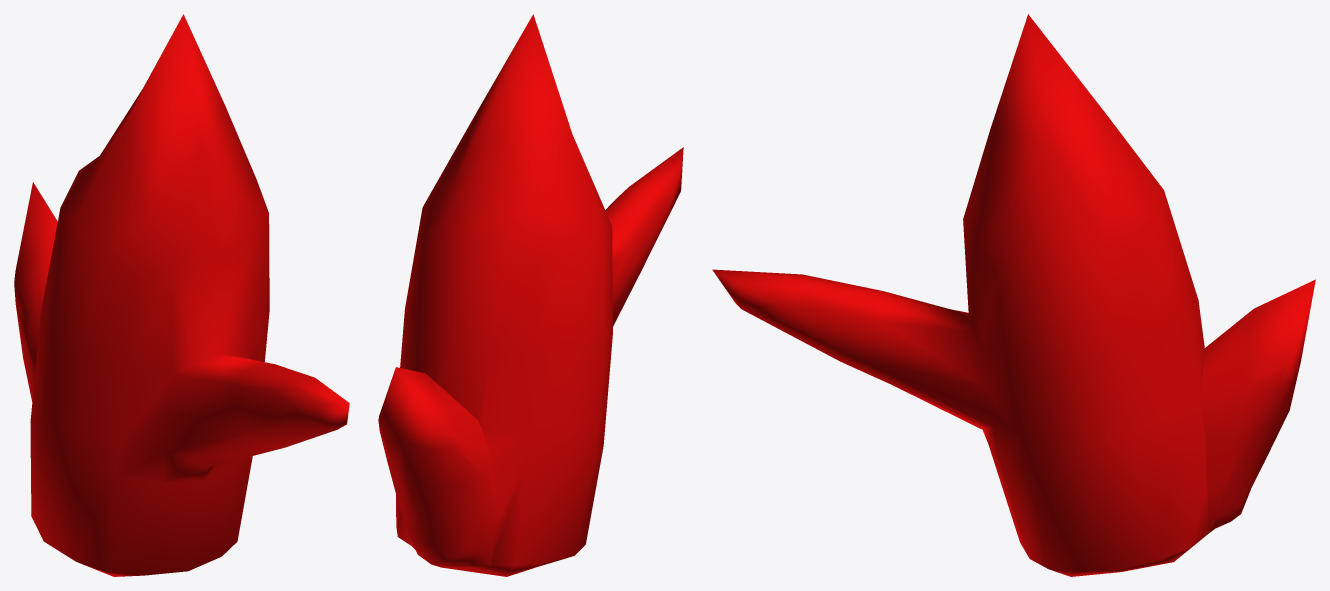
Rendered from grystalgrouptutorial.fbx.
The picture shows the model from 3 angles, left to right: view 1: azimuth 30°, elevation 25°; view 2: azimuth 150°, elevation 25°; view 3: azimuth 270°, elevation 25°; orthographic projection. The views are drawn at different scales.
Visible parts, largest first — view 1: crystal_group2; view 2: crystal_group2; view 3: crystal_group2.
Part boxes in pixels (x1,y1,x2,y2): crystal_group2: [14, 14, 349, 576]; crystal_group2: [378, 14, 683, 576]; crystal_group2: [712, 14, 1315, 576].
Bounding box in the file's own units: 2.07 × 5.37 × 5.43.
